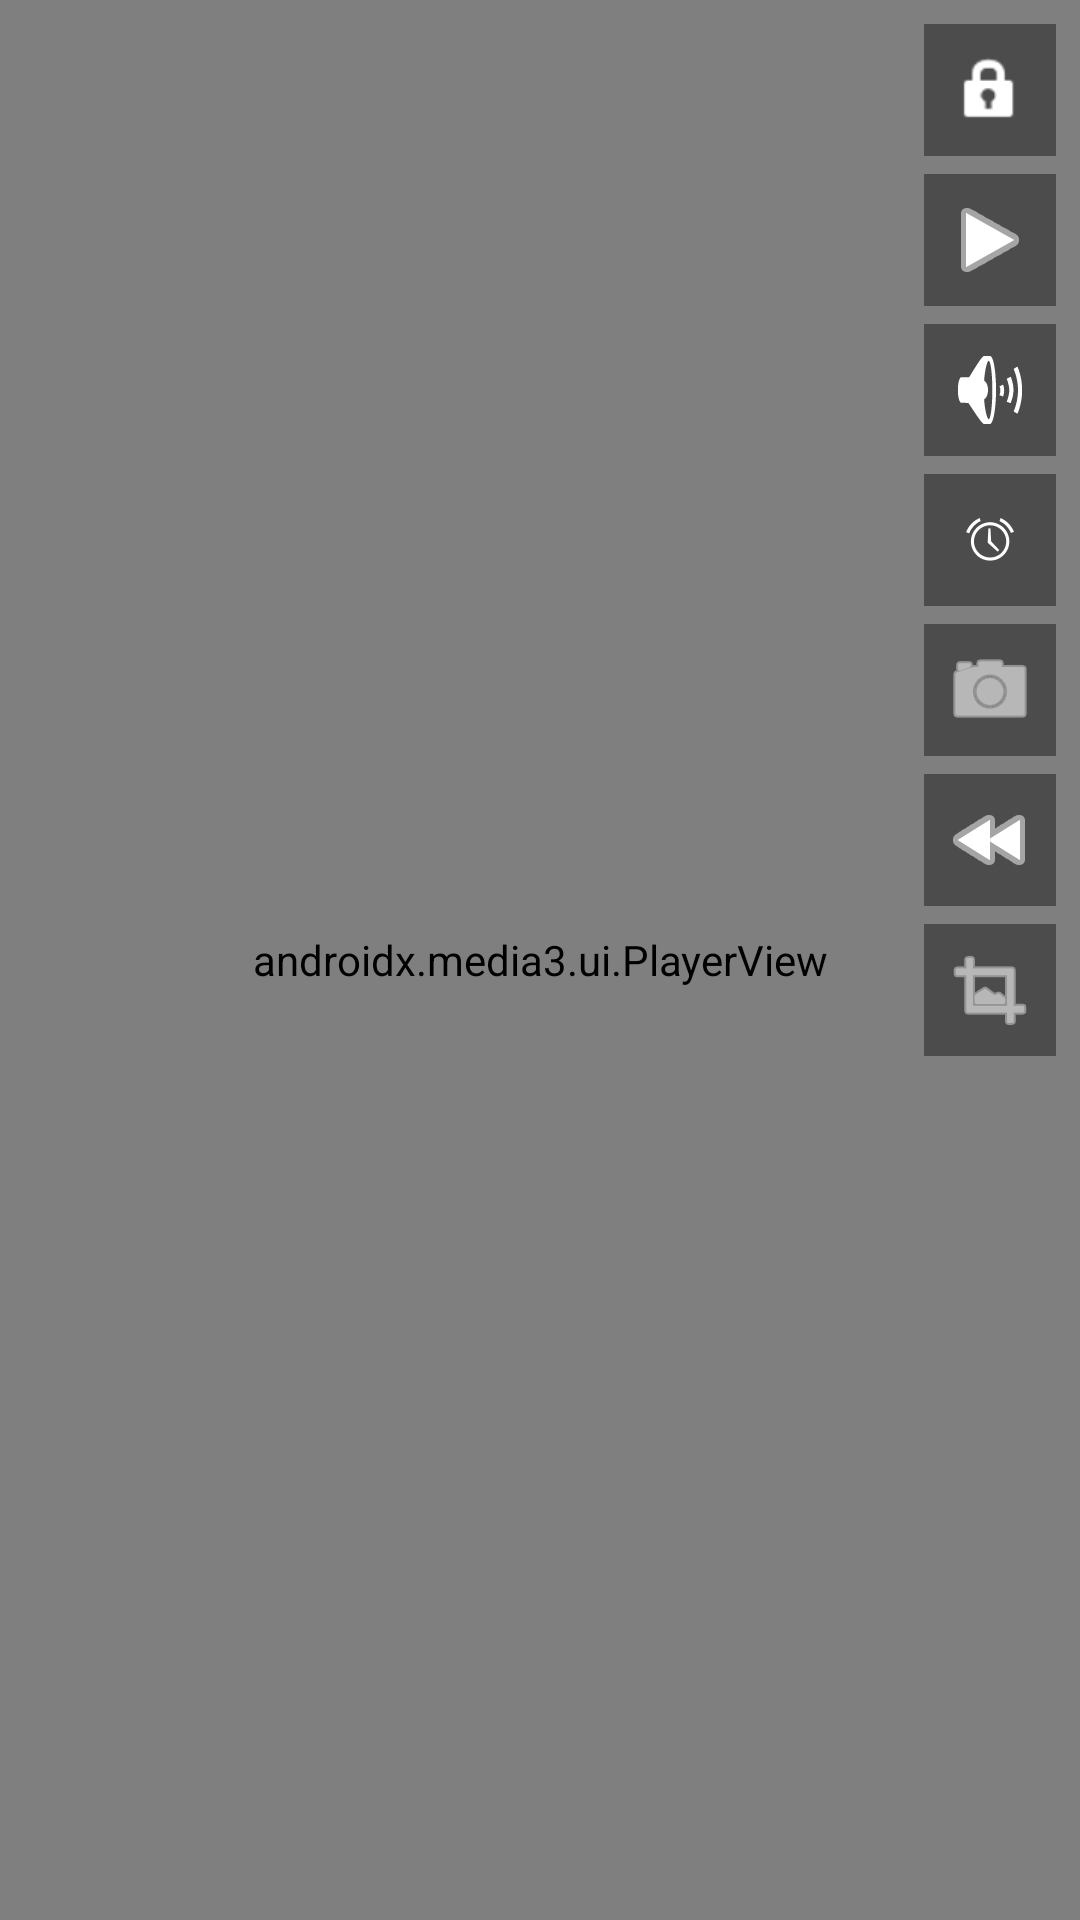

Named icons in this screenshot (1080*1920) and their bounding boxes, bbox=(x1, y1, x2, y2):
Audio and subtitles: bbox=(924, 324, 1056, 456)
Lock controls: bbox=(924, 24, 1056, 156)
Screenshot: bbox=(924, 624, 1056, 756)
Sleep timer: bbox=(924, 474, 1056, 606)
